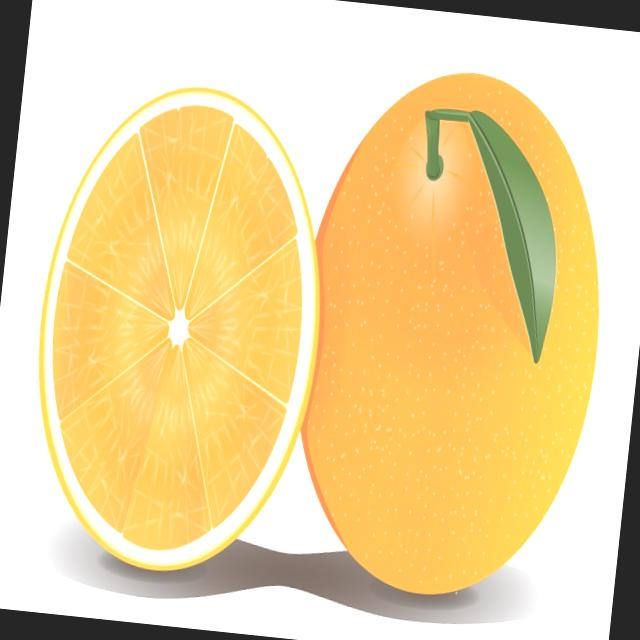orange: (262, 40, 628, 610)
